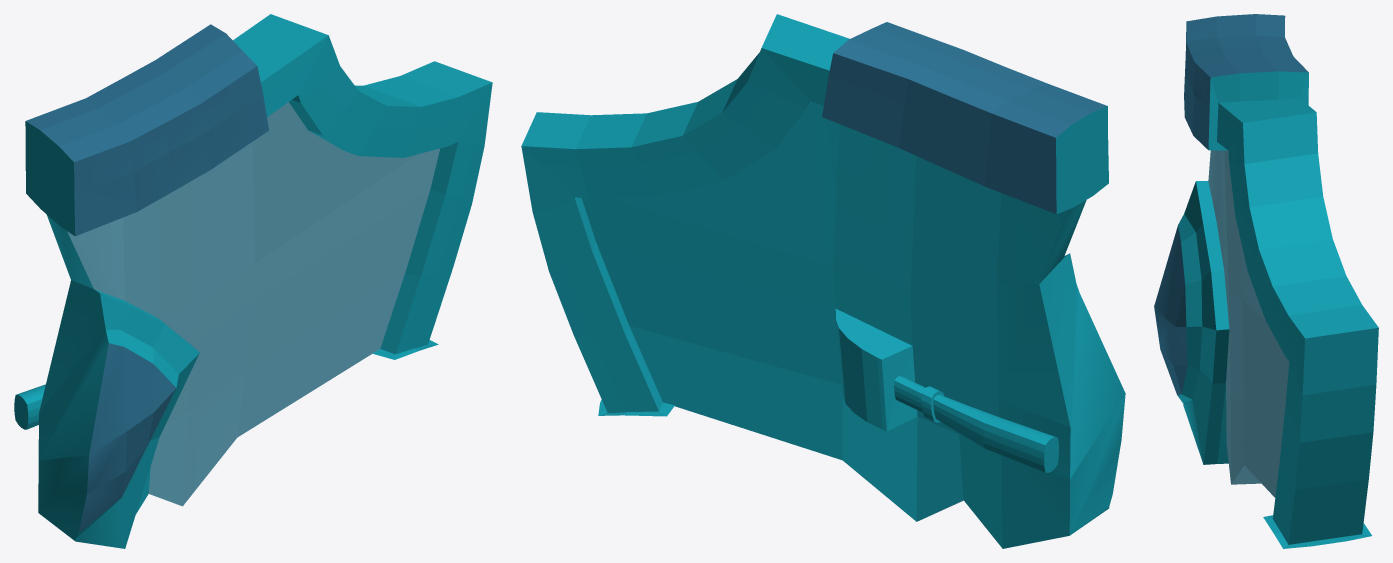
Rendered from perisai kanan atas.fbx.
3 views of the same model, side by side, from view 1: azimuth 30°, elevation 25°; view 2: azimuth 150°, elevation 25°; view 3: azimuth 270°, elevation 25° (orthographic). The views are drawn at different scales.
Visible parts, largest first — view 1: kanan atas; view 2: kanan atas; view 3: kanan atas.
Part boxes in pixels (x1,y1,x2,y2): kanan atas: (14,14,492,548); kanan atas: (521,14,1125,548); kanan atas: (1154,14,1378,548).
Size of the model in its own units: 119 by 109 by 47.84.
